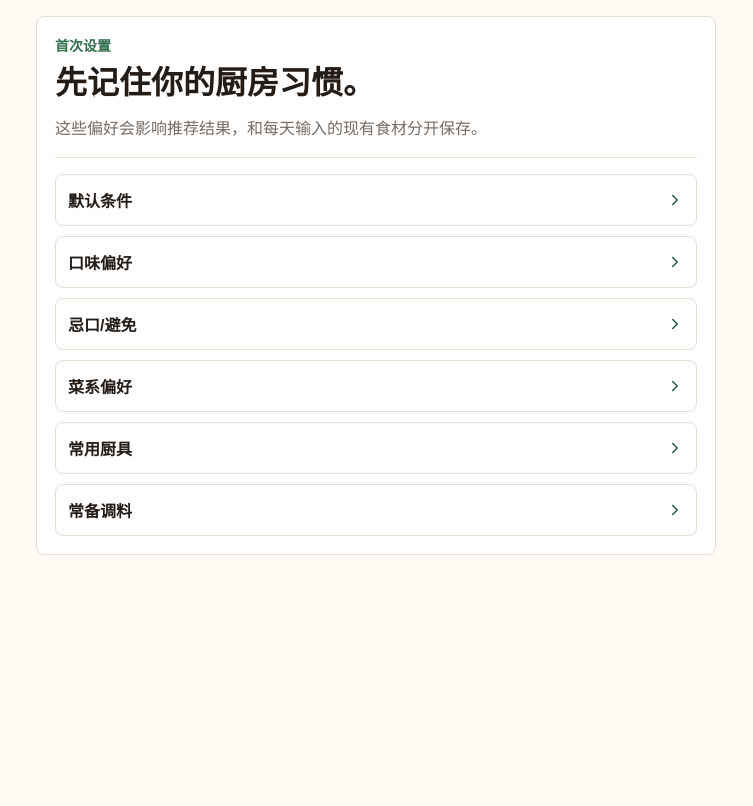
Scenario: HomePage › returns to the ingredient flow after changing first-run settings
Click the button with aria-label "编辑口味偏好": coordinates (100, 264) [55,236,697,288]
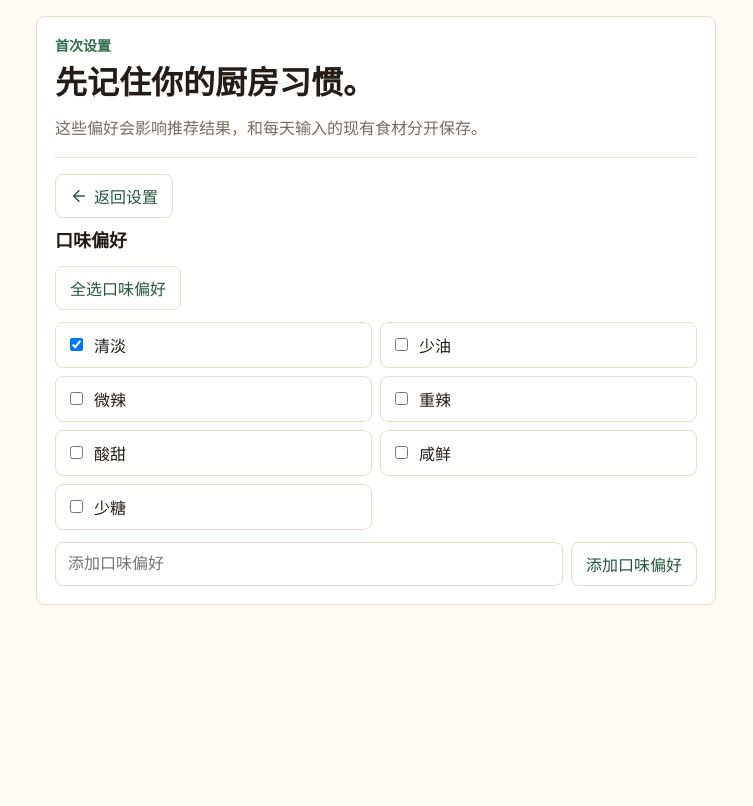
Click the checkbox labelled "少油": coordinates (402, 345) [395,338,408,351]
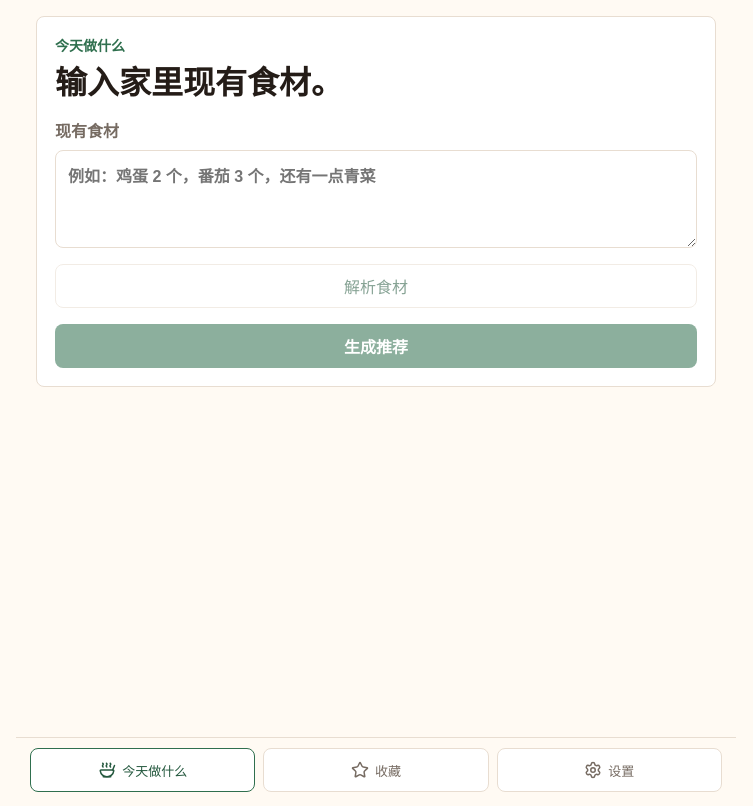
Check: the text box labelled "现有食材" is shown, box [55,150,697,248]
